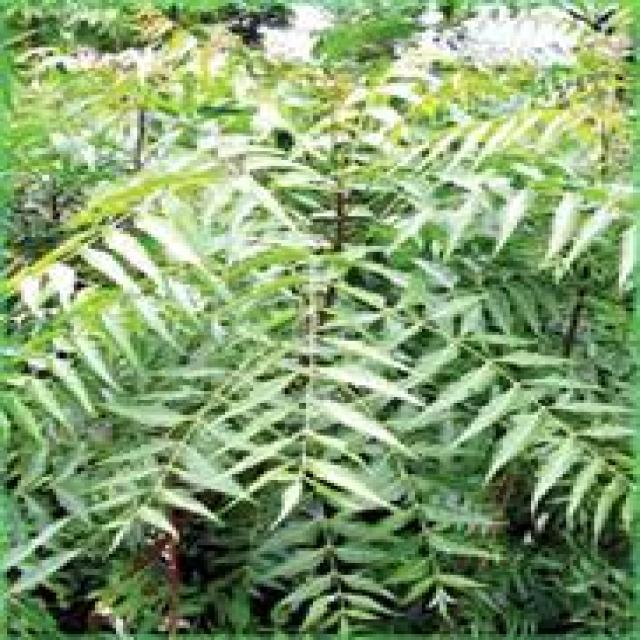Neem-Tree: (0, 1, 640, 640)
